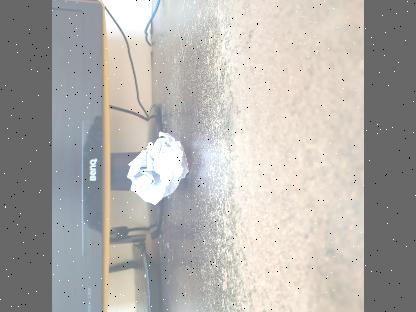Others: (127, 128, 191, 204)
